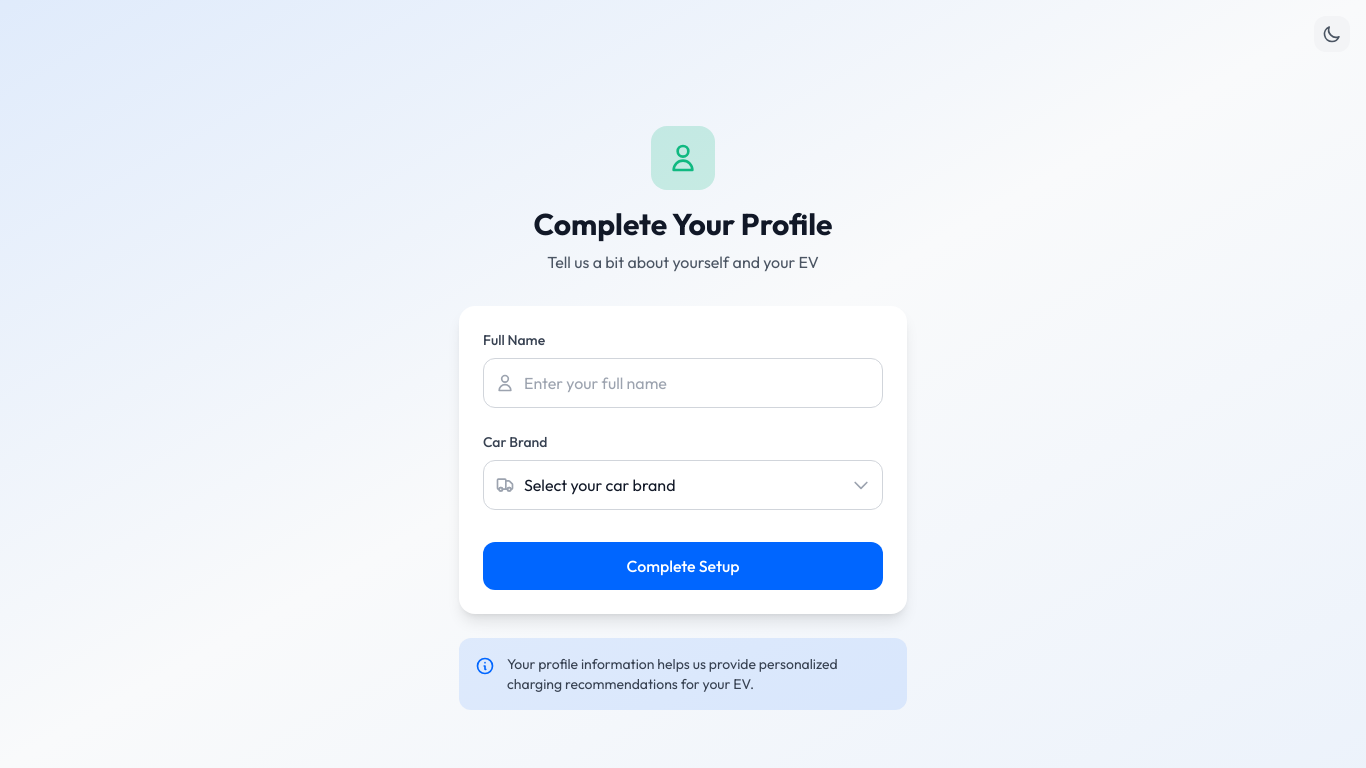
ProfileSetup Component › shows error when car type is not selected
The width and height of the screenshot is (1366, 768).
Step 1. Type "John Doe" into the field labelled "Full Name" → (683, 383), box [483, 358, 883, 408]
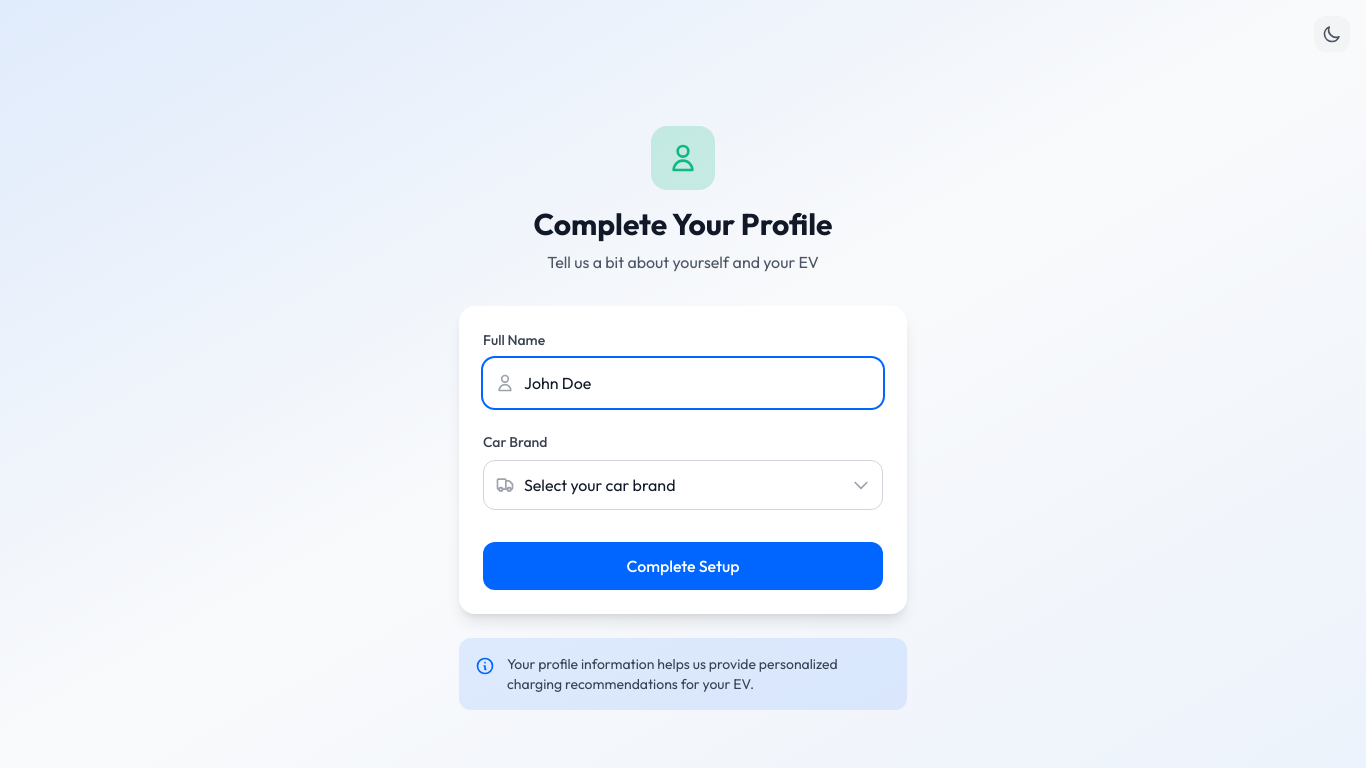
Step 2. Click the button "Complete Setup" → (683, 566), box [483, 542, 883, 590]
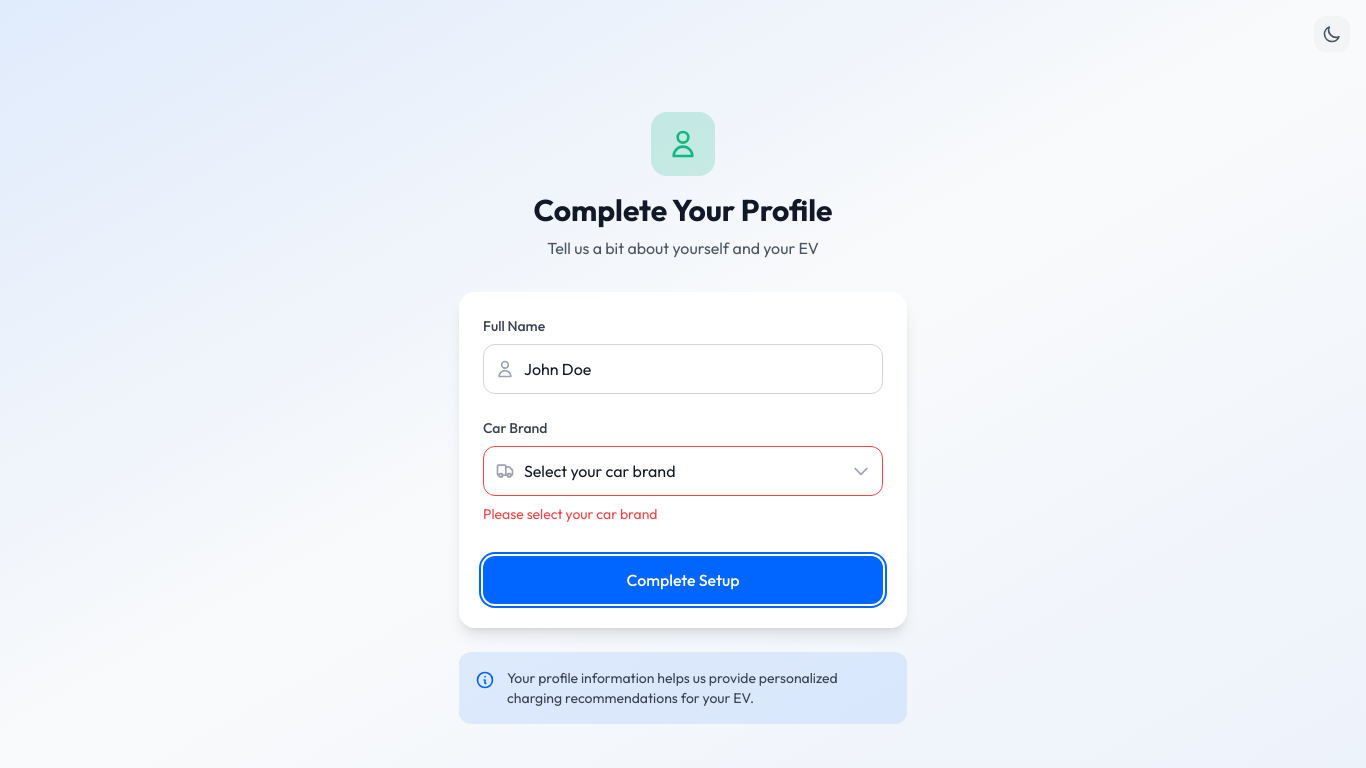
Expected: the text "Please select your car brand" is shown, [483, 505, 658, 523]
